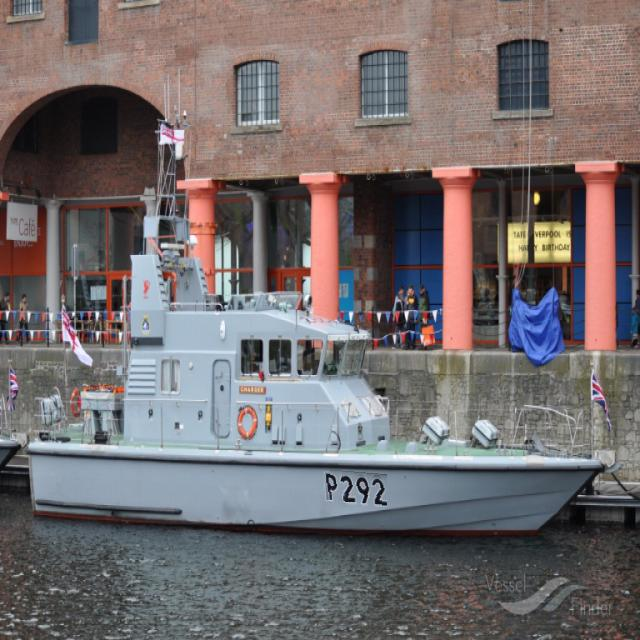OCR: (323, 469, 387, 507)
